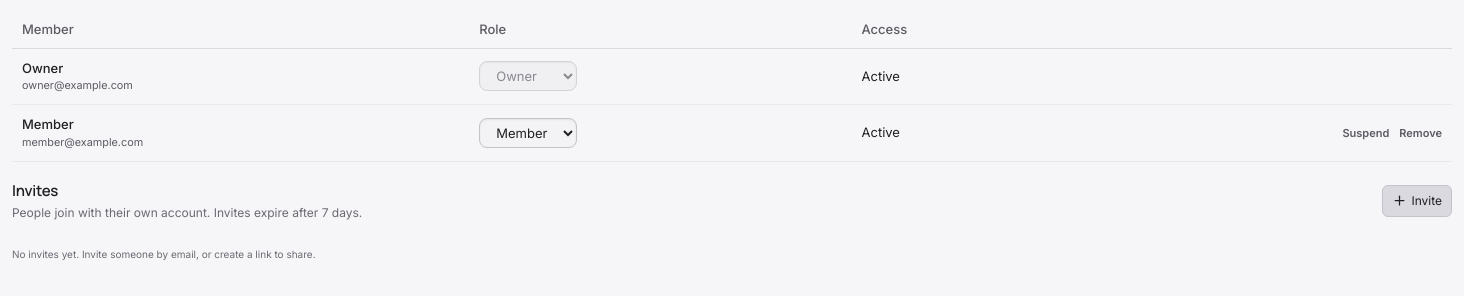
Test: server administration in Settings › reports a failure instead of pretending the change worked
Expected: the text "member@example.com" is shown, [22,136,143,149]
Select "Admin" in the dropdown named "role for member@example.com": (528, 133) [479,118,577,148]
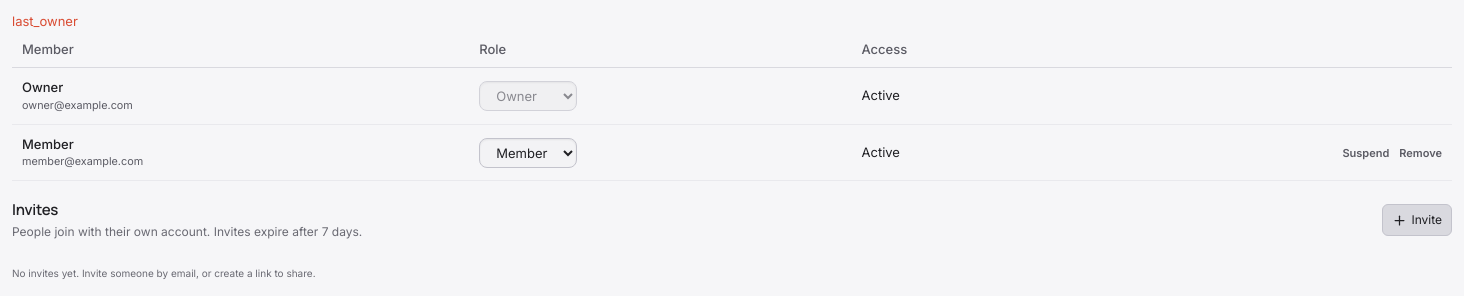
Now the message reads "last_owner", box [12,13,78,29]
